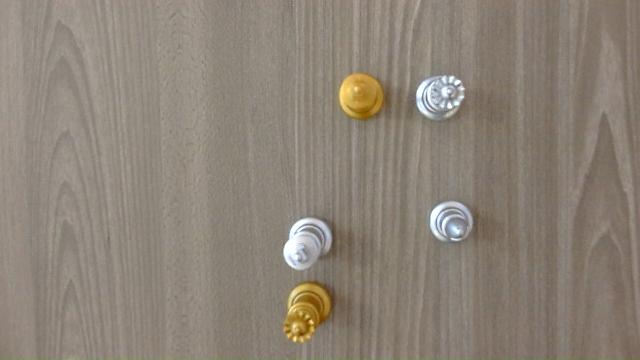black_king: (339, 73, 386, 120)
black_queen: (281, 283, 334, 344)
white_bishop: (429, 200, 475, 243)
white_king: (283, 217, 333, 271)
white_queen: (414, 73, 467, 122)
